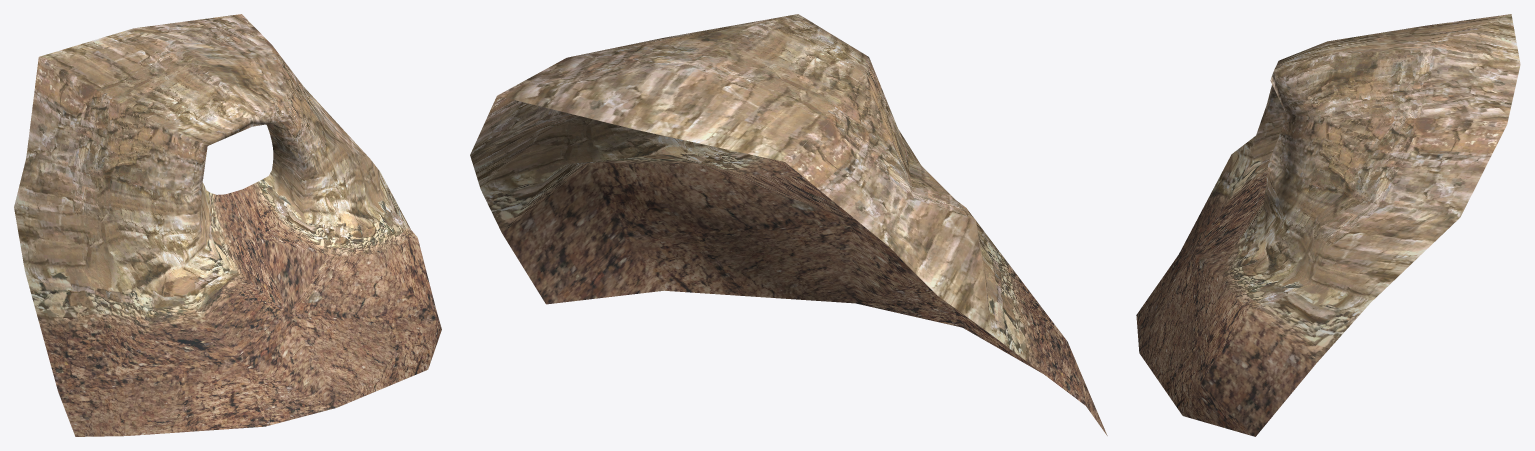
File: thm_tato_cave_s02_r0_mesh_l3.fbx
3 views of the same model, side by side, from view 1: azimuth 30°, elevation 25°; view 2: azimuth 150°, elevation 25°; view 3: azimuth 270°, elevation 25° (orthographic). The views are drawn at different scales.
Parts seen in each view (by area): view 1: mesh_node; view 2: mesh_node; view 3: mesh_node.
Boxes of the visible parts, x1,y1,x2,y2 form: mesh_node: [14, 14, 441, 436]; mesh_node: [470, 14, 1107, 435]; mesh_node: [1136, 14, 1520, 436].
Size of the model in its own units: 48.32 by 33.74 by 39.28.
